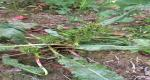zhavel: (0, 21, 150, 80)
